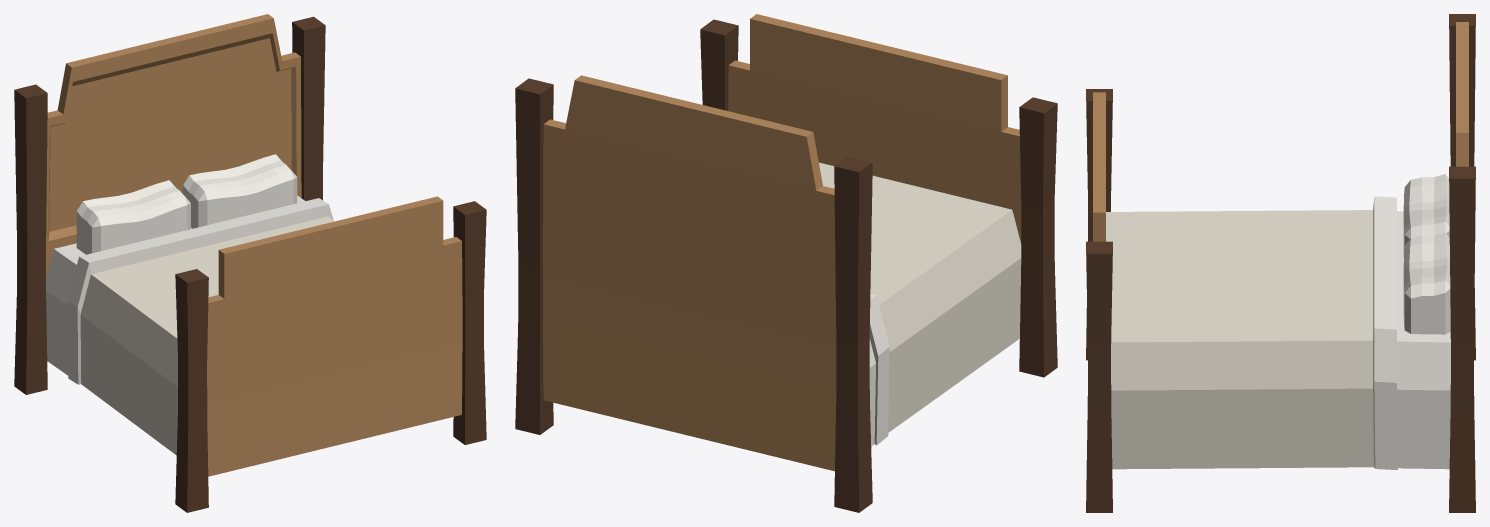
The model's file is qt-bed-king.glb.
3 views of the same model, side by side, from view 1: azimuth 30°, elevation 25°; view 2: azimuth 150°, elevation 25°; view 3: azimuth 270°, elevation 25° (orthographic). The views are drawn at different scales.
Parts seen in each view (by area): view 1: BedKing_Cube.018; view 2: BedKing_Cube.018; view 3: BedKing_Cube.018.
Boxes of the visible parts, x1,y1,x2,y2 form: BedKing_Cube.018: (14, 14, 486, 512); BedKing_Cube.018: (515, 14, 1057, 512); BedKing_Cube.018: (1086, 14, 1475, 512).
Size of the model in its own units: 1 by 1 by 1.
